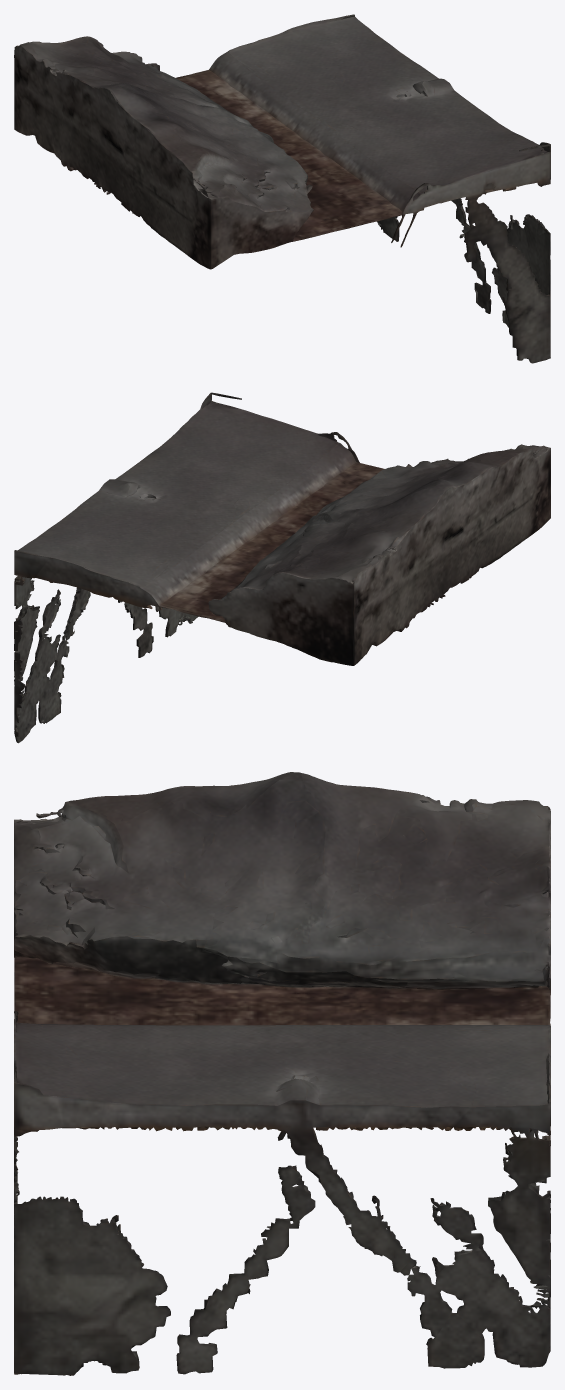
3 views of the same model, one above another, from view 1: azimuth 30°, elevation 25°; view 2: azimuth 150°, elevation 25°; view 3: azimuth 270°, elevation 25° (orthographic). The views are drawn at different scales.
Parts seen in each view (by area): view 1: world; view 2: world; view 3: world.
Part boxes in pixels (x1,y1,x2,y2): world: [14, 14, 550, 363]; world: [14, 392, 550, 743]; world: [14, 772, 550, 1375].
Bounding box in the file's own units: 1.2 × 0.9377 × 1.2.
Materials: 1 (1 with a texture image).
